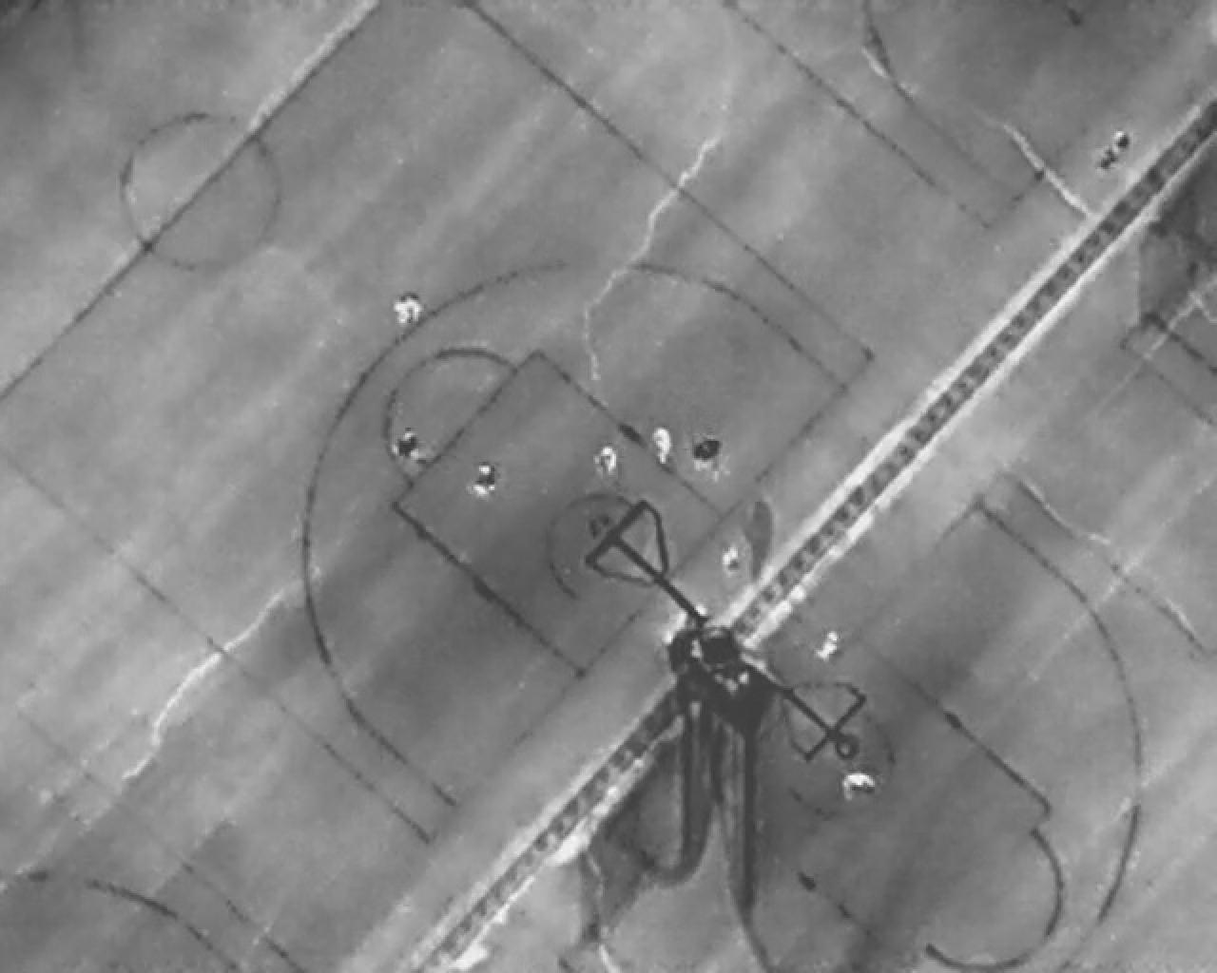person: (1085, 123, 1136, 176), (813, 620, 845, 668), (695, 429, 724, 480), (393, 286, 423, 332), (473, 459, 501, 505), (841, 771, 876, 805), (594, 444, 621, 486), (395, 423, 419, 468), (653, 425, 672, 472), (720, 541, 743, 579)
